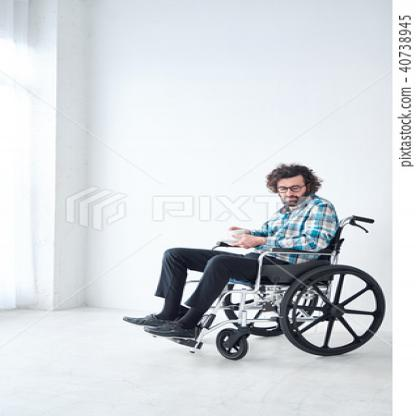wheelchair: (139, 149, 391, 360)
